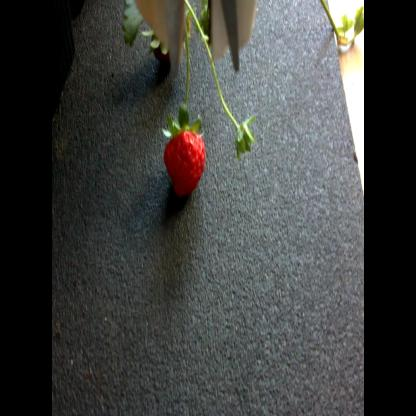ripe: (158, 127, 207, 198)
